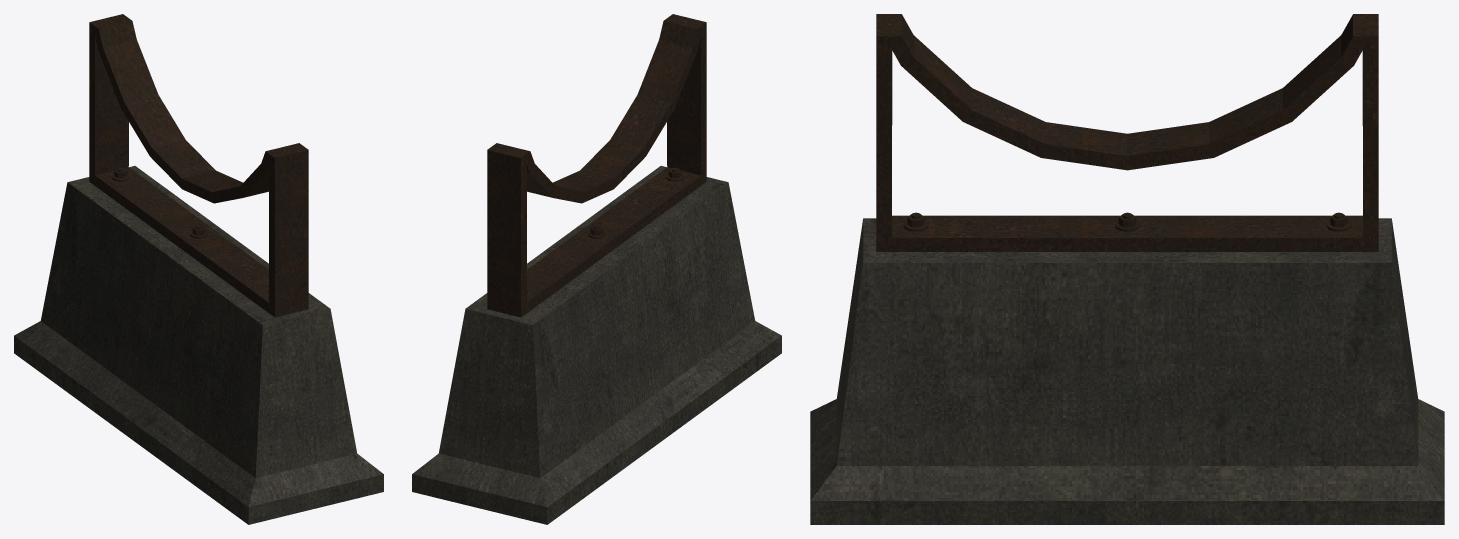
Rendered from stand_mx_2.glb.
3 renders of one model, left to right at view 1: azimuth 30°, elevation 25°; view 2: azimuth 150°, elevation 25°; view 3: azimuth 270°, elevation 25°, orthographic. The views are drawn at different scales.
Visible parts, largest first — view 1: stand_mx_2; view 2: stand_mx_2; view 3: stand_mx_2.
Part boxes in pixels (left/top/right/bottom): stand_mx_2: left=14, top=14, right=383, bottom=524; stand_mx_2: left=412, top=14, right=781, bottom=524; stand_mx_2: left=810, top=14, right=1444, bottom=524.
Bounding box in the file's own units: 0.8 × 1.9 × 2.4.
Materials: 2 (2 with a texture image).
